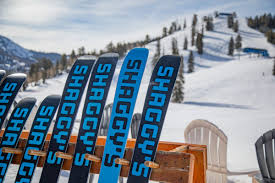skis: (98, 47, 181, 183), (36, 51, 121, 183), (1, 94, 61, 183), (1, 68, 29, 183)
